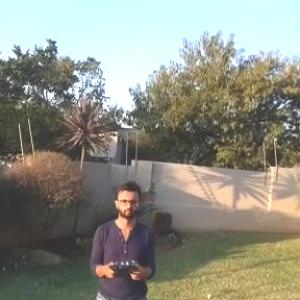follow: (86, 175, 158, 299)
